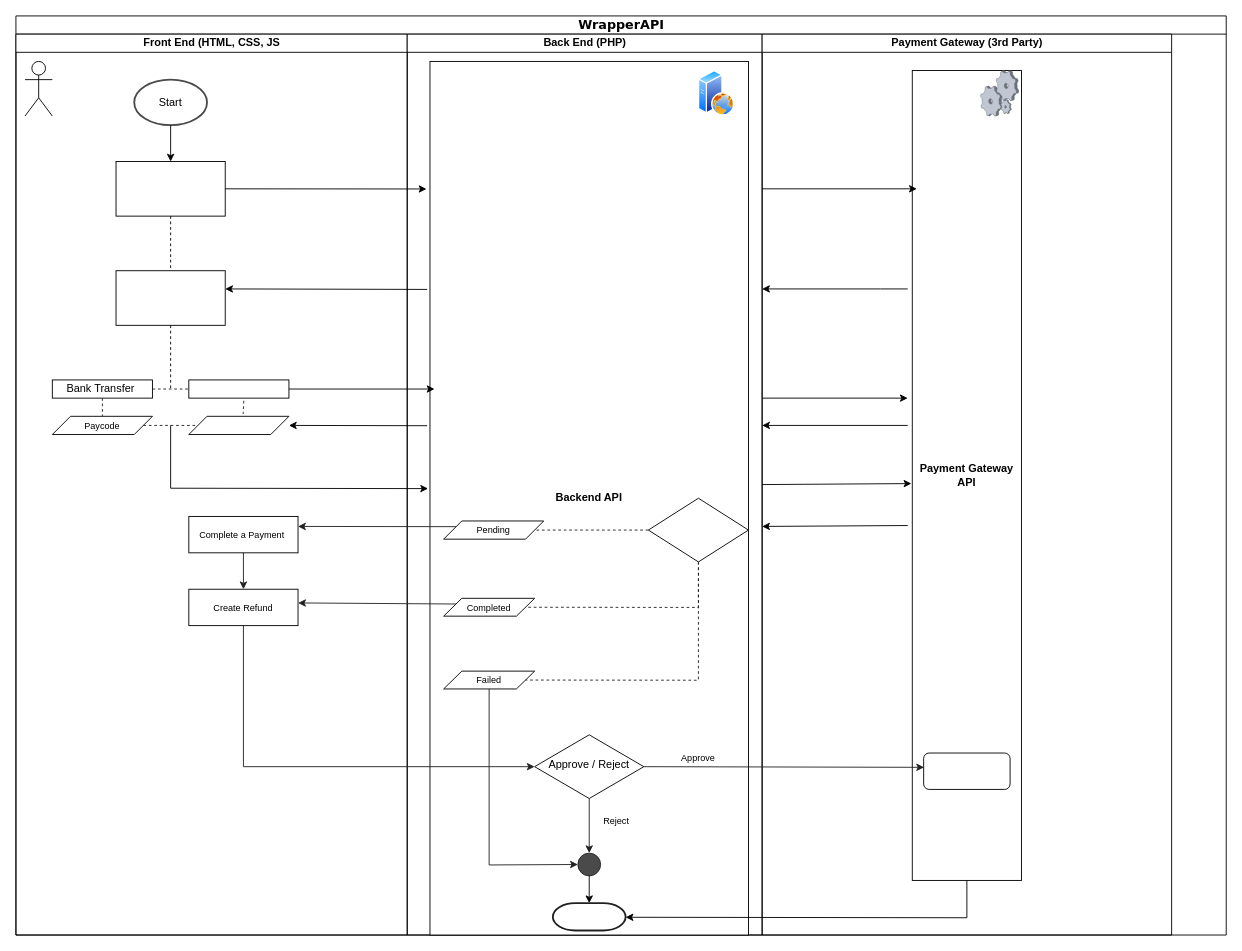
This 1242x951 diagram has some shape labels left out. Here are the shapes that lost their labels. From the top down, the centre of each, then its label:
At pixel 38 88: "Merchant".
At pixel 170 188: "API Checkout".
At pixel 170 297: "Payment Method".
At pixel 238 388: "eWallet".
At pixel 238 425: "eWallet Redirect".
At pixel 697 529: "Payment Status".
At pixel 966 770: "Refund Completed".
At pixel 588 916: "End".
